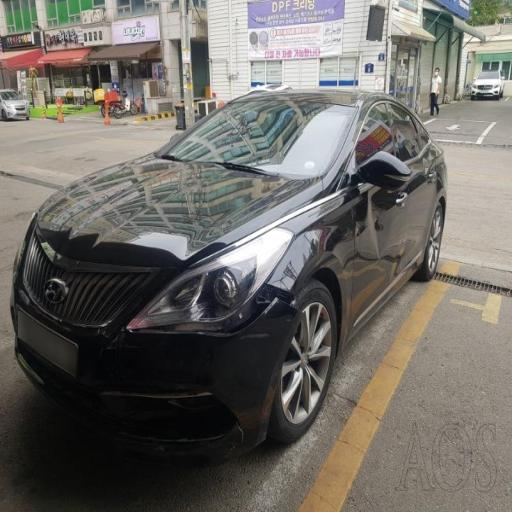scratch: (117, 160, 234, 242)
